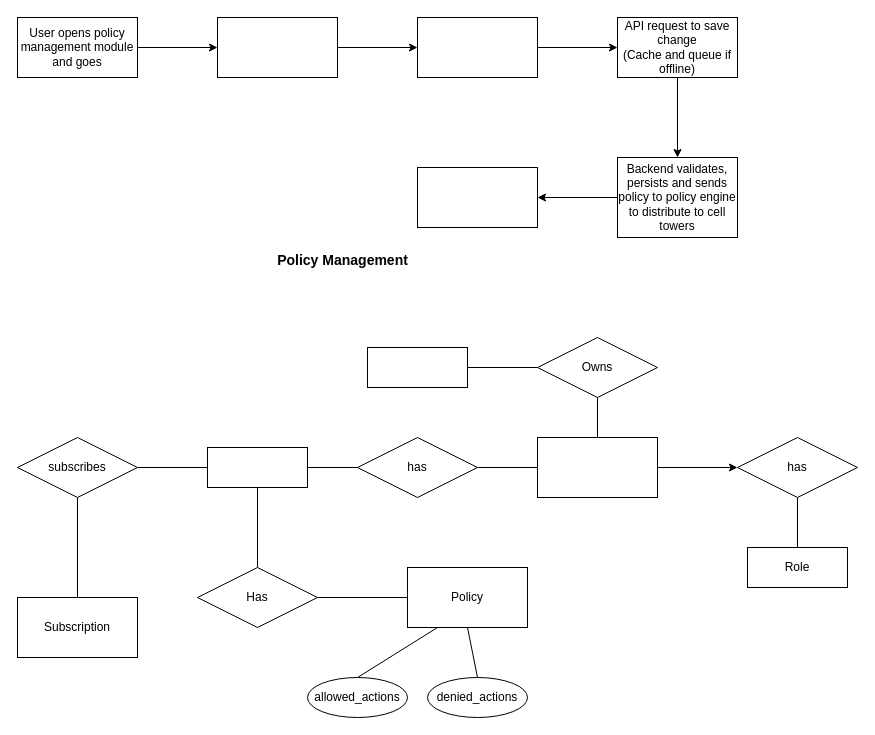
The diagram is 875 pixels wide and 735 high, and some of its shapes have lost their labels. The shapes that lost their labels are listed below. From the top down, each one's centre as x and y in pixels, then its label:
point 277,47: Get existing policies, enterprise roles, work locations, apps, actions
point 477,47: Create new or maintain policy on the UI using matrix or multi step view
point 477,197: Succes/failure displayed on screen
point 417,367: Device
point 257,467: Enterprise
point 597,467: EnterpriseUser
